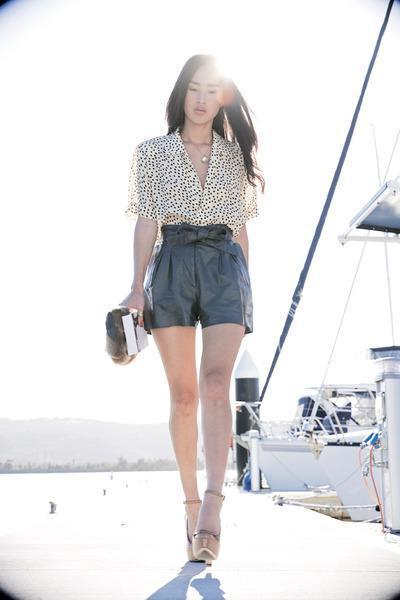Shorts: (132, 222, 257, 332)
short sleeve shirt: (126, 131, 268, 239)
